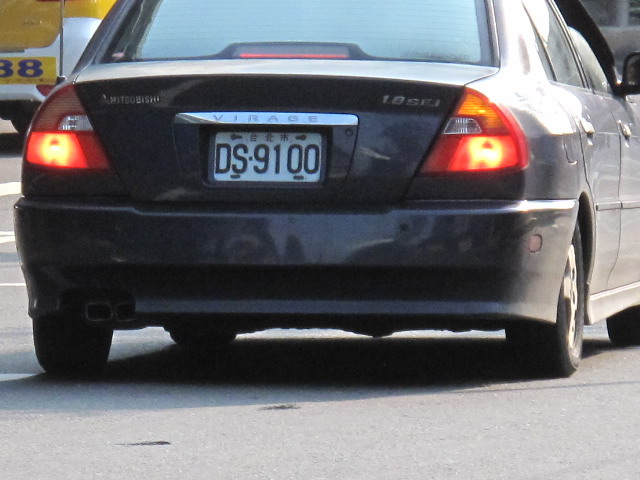plate: (212, 128, 325, 187)
